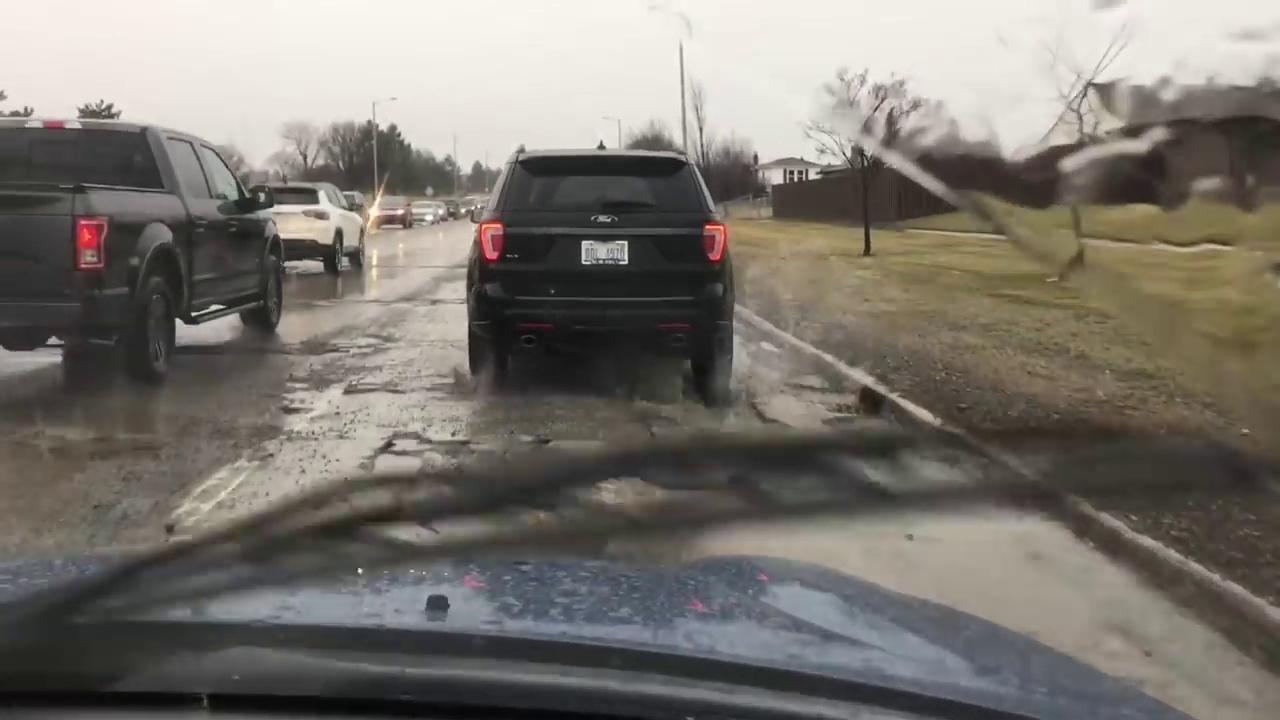pothole: (370, 425, 468, 476)
